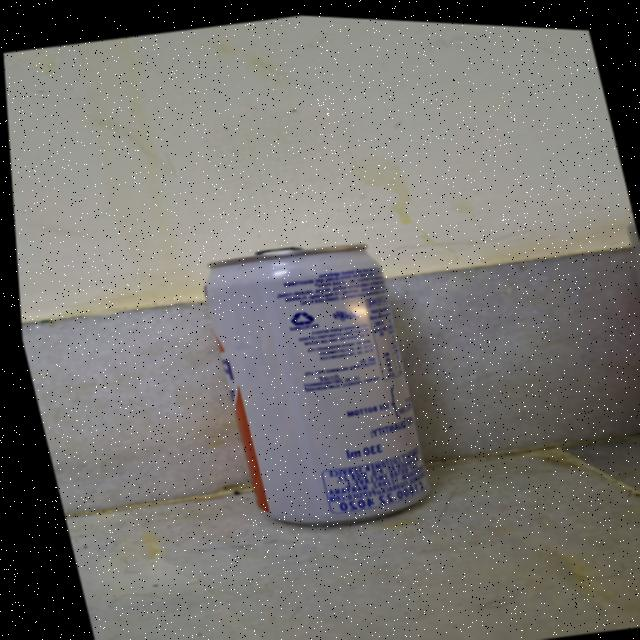Pepsi Retro: (159, 211, 468, 553)
